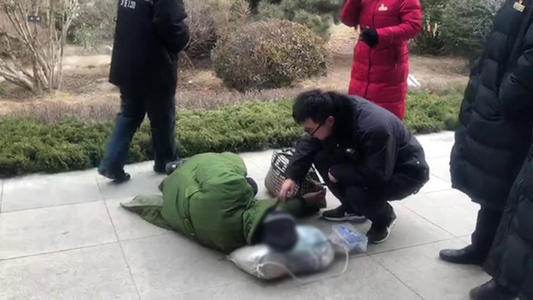falling: (126, 138, 341, 285)
